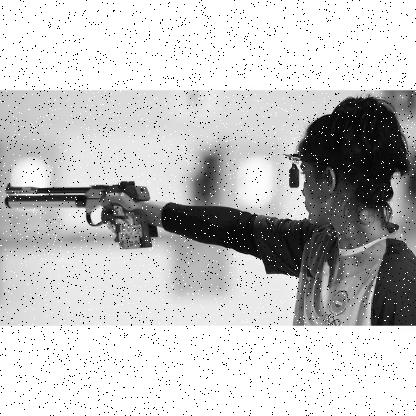gun: (0, 179, 158, 251)
